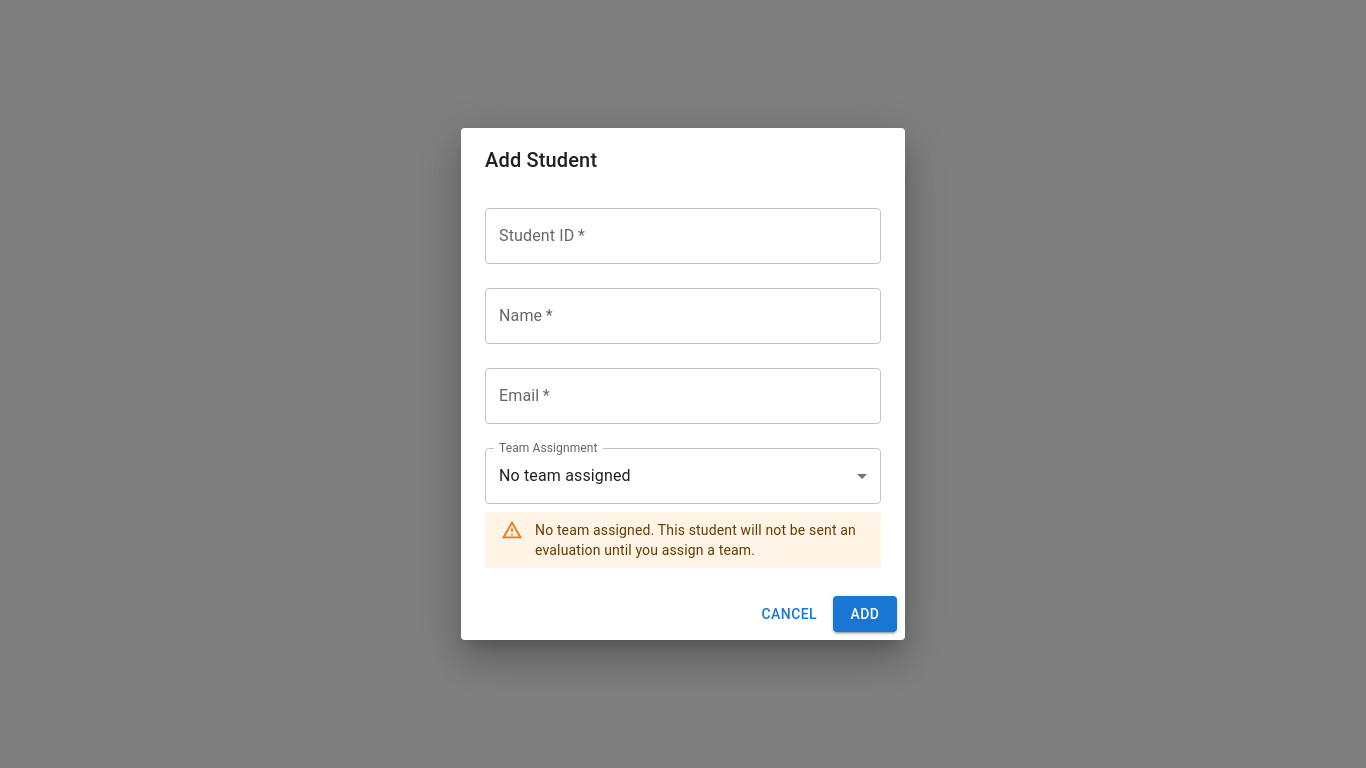
Scenario: AddStudentDialog › has the four fields, and what is typed or chosen goes into the form
Expected: the heading "Add Student" is shown, [485,148,597,172]
Type "1007" into the field labelled "Student ID *". click: (683, 236)
box: [485,208,881,264]
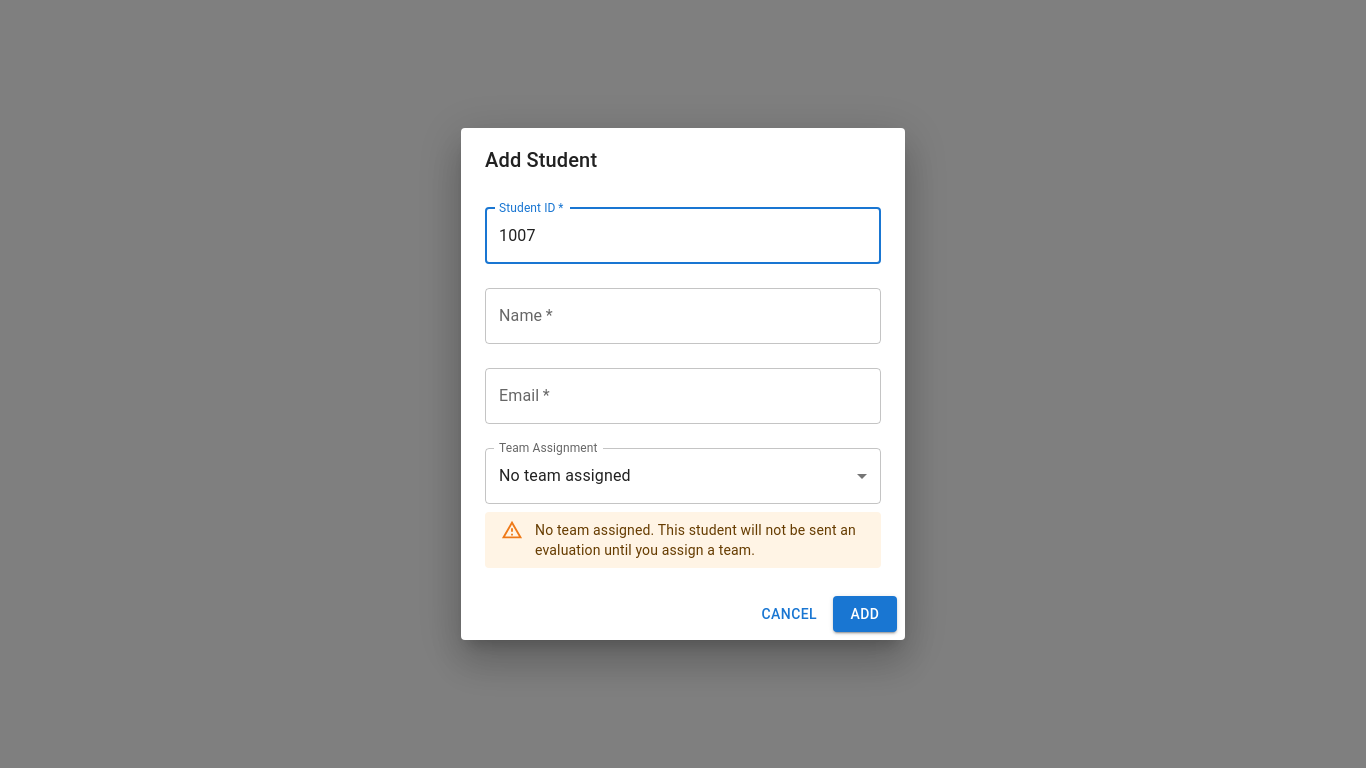
Type "Zed Zimmer" into the field labelled "Name *". click: (683, 316)
box: [485,288,881,344]
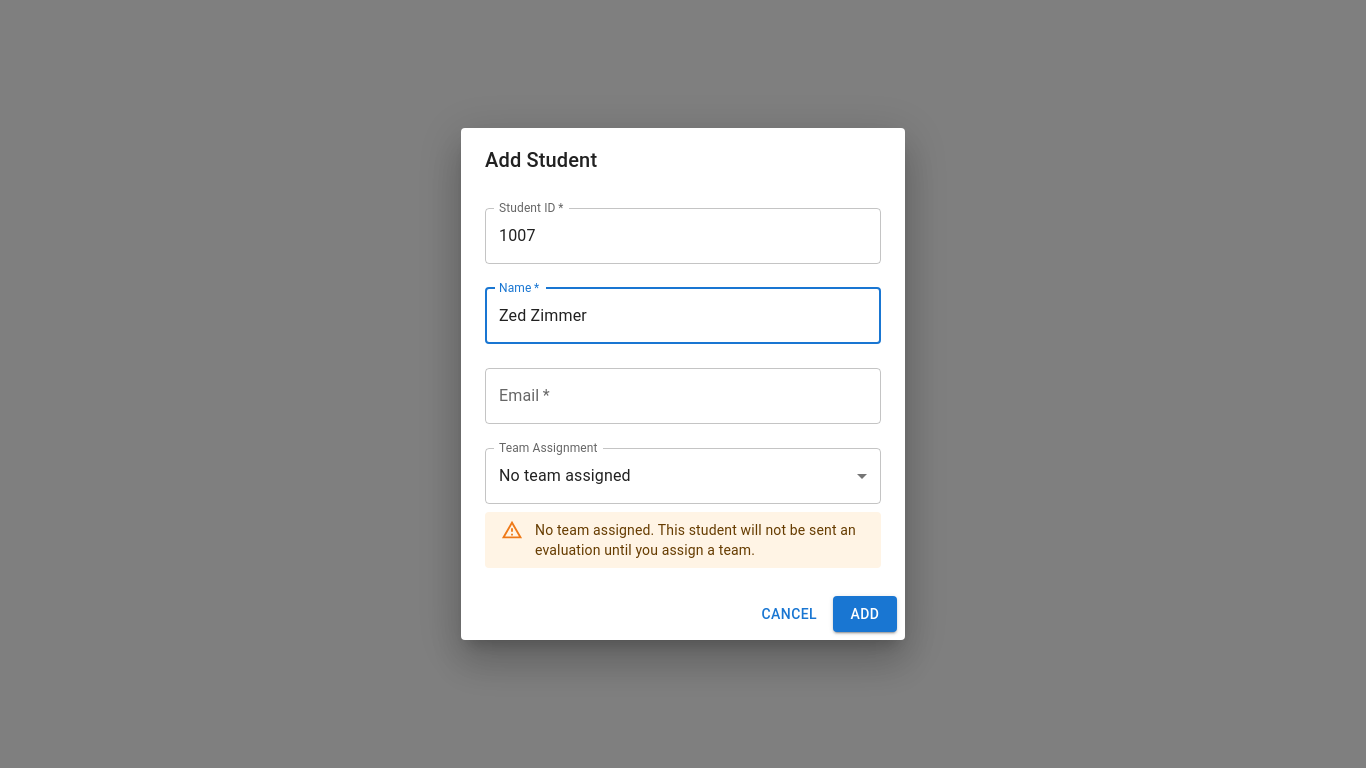
Type "zed@example.edu" into the field labelled "Email *". click: (683, 396)
box: [485,368,881,424]
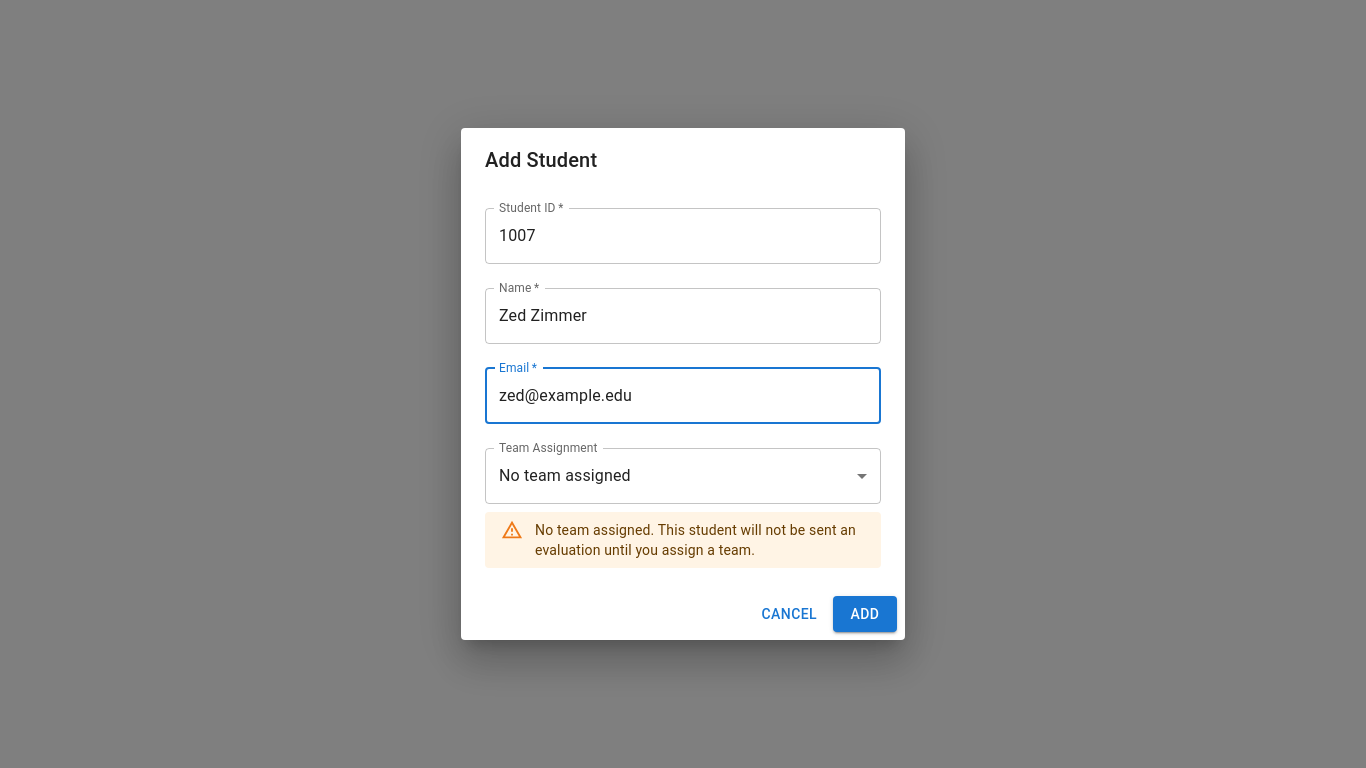
Click the dropdown named "Team Assignment". click: click(565, 476)
box: [499,466,631,485]
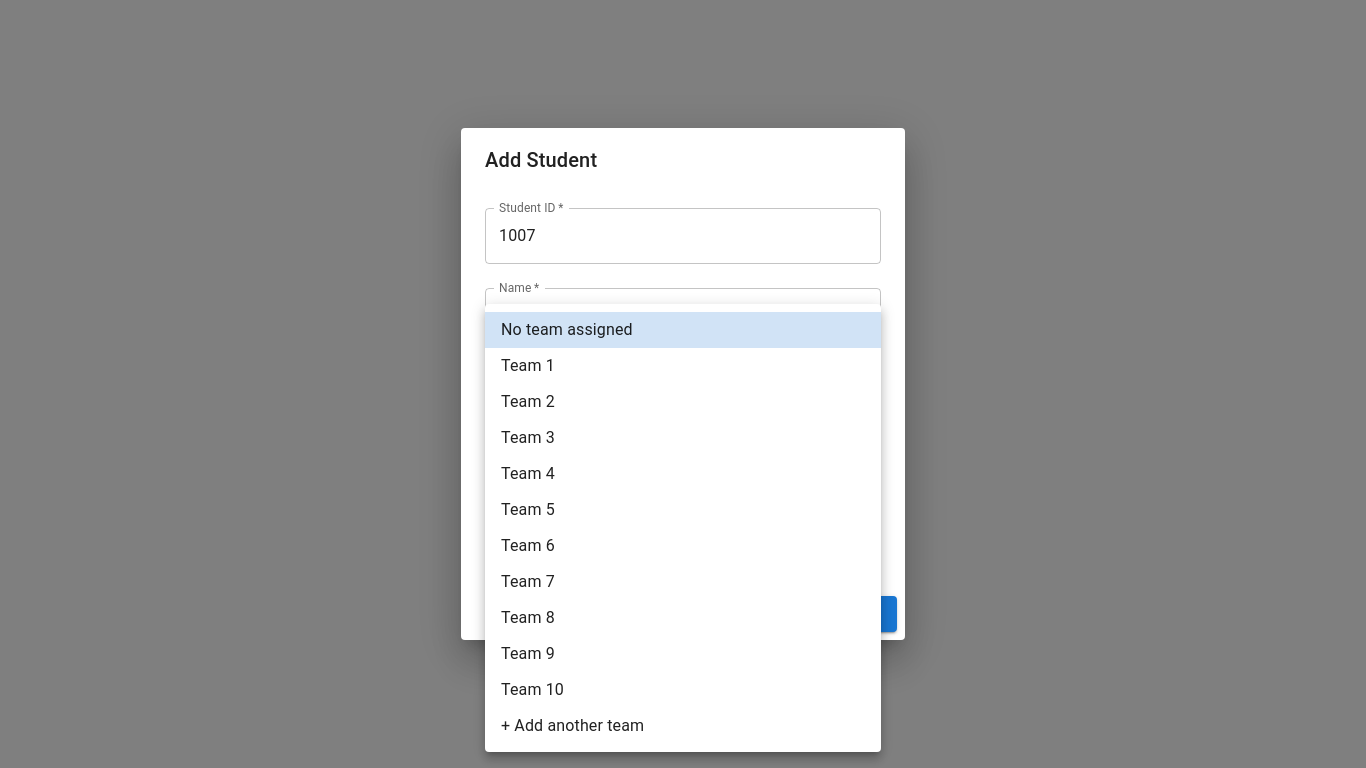
Click the option "Team 3". click: click(528, 438)
box: [501,428,555,447]
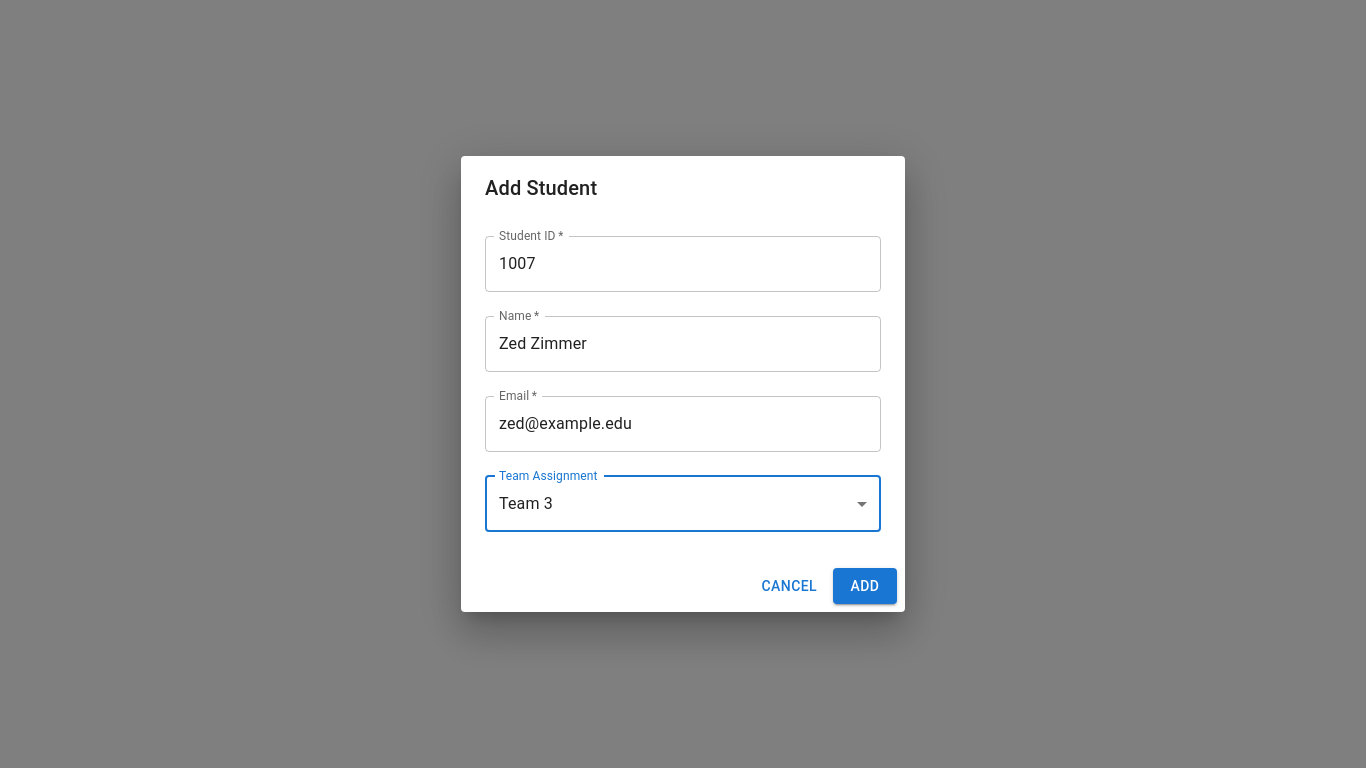
Now the dropdown named "Team Assignment" reads "Team 3", box [499,494,553,513]
